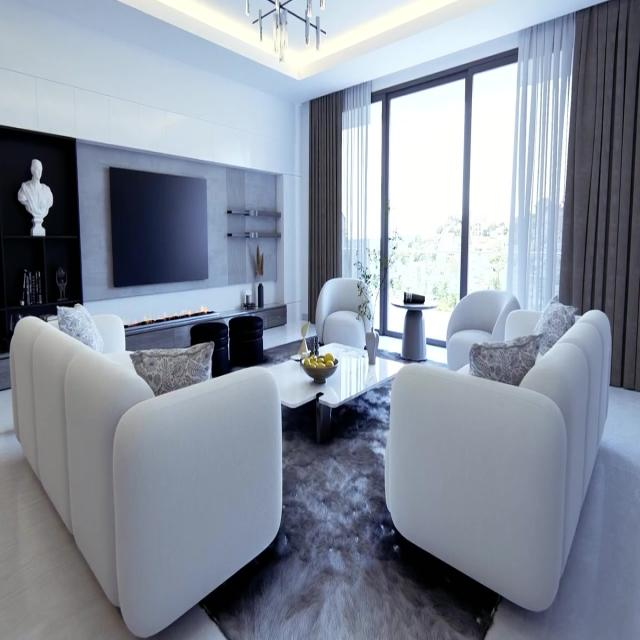obstacle: (9, 308, 283, 638), (384, 303, 612, 613), (315, 276, 372, 350), (390, 297, 438, 361)
